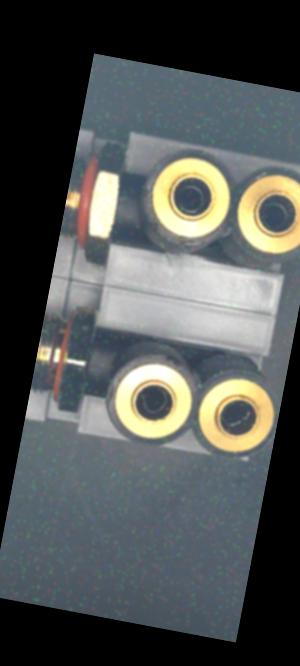bump: (159, 354, 184, 369), (141, 184, 156, 204), (150, 219, 163, 234)
off-centered: (134, 378, 173, 421), (212, 396, 254, 435)
white mark: (87, 363, 98, 374), (117, 193, 127, 203)
